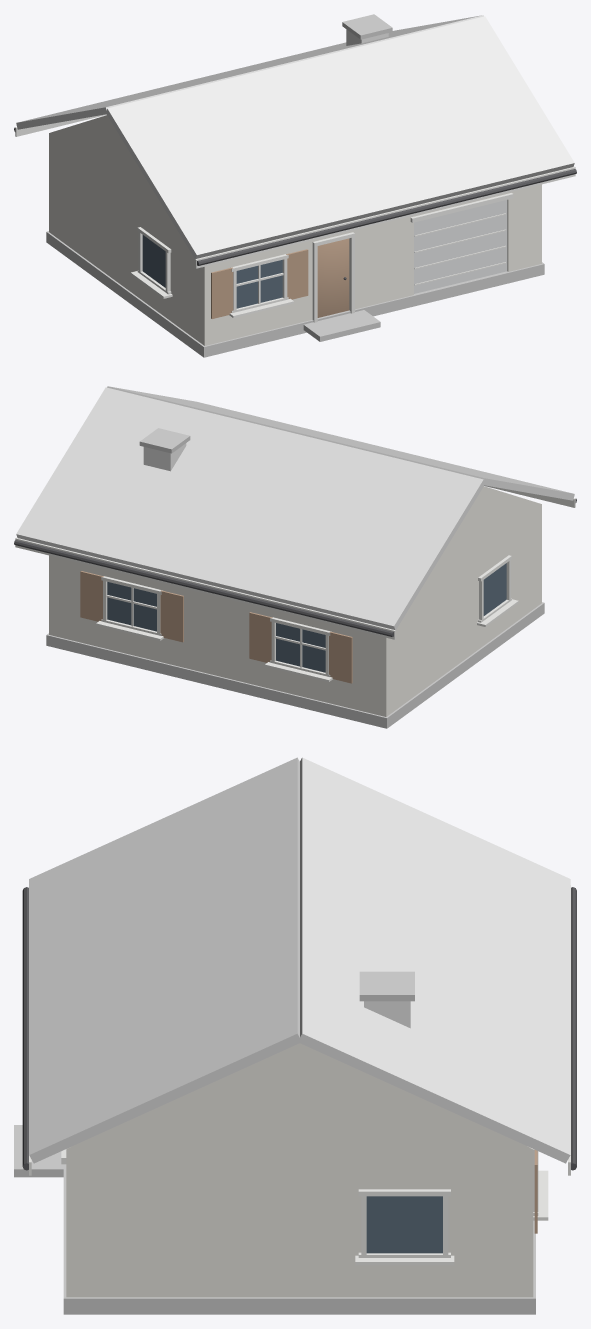
File: house_a.glb
3 views of the same model, one above another, from view 1: azimuth 30°, elevation 25°; view 2: azimuth 150°, elevation 25°; view 3: azimuth 270°, elevation 25° (orthographic). The views are drawn at different scales.
Visible parts, largest first — view 1: house_a_pbr_roof, house_a_pbr_plaster, house_a_pbr_concrete, house_a_trim, house_a_garage, house_a_pbr_wood, house_a_window_glass, house_a_metal_dark; view 2: house_a_pbr_roof, house_a_pbr_plaster, house_a_pbr_concrete, house_a_trim, house_a_window_glass, house_a_pbr_wood, house_a_metal_dark, house_a_pbr_brick; view 3: house_a_pbr_roof, house_a_pbr_plaster, house_a_pbr_concrete, house_a_window_glass, house_a_trim, house_a_metal_dark, house_a_pbr_brick.
Part boxes in pixels (left/top/right/bottom): house_a_pbr_roof: left=16, top=15, right=574, bottom=259; house_a_pbr_plaster: left=49, top=115, right=541, bottom=345; house_a_pbr_concrete: left=46, top=14, right=544, bottom=357; house_a_trim: left=15, top=114, right=575, bottom=322; house_a_garage: left=414, top=200, right=507, bottom=293; house_a_pbr_wood: left=211, top=238, right=349, bottom=318; house_a_window_glass: left=142, top=235, right=282, bottom=308; house_a_metal_dark: left=14, top=127, right=576, bottom=279; house_a_pbr_roof: left=16, top=386, right=574, bottom=630; house_a_pbr_plaster: left=49, top=486, right=541, bottom=716; house_a_pbr_concrete: left=46, top=428, right=544, bottom=728; house_a_trim: left=15, top=485, right=575, bottom=682; house_a_window_glass: left=107, top=563, right=506, bottom=672; house_a_pbr_wood: left=80, top=571, right=352, bottom=683; house_a_metal_dark: left=14, top=498, right=576, bottom=636; house_a_pbr_brick: left=143, top=443, right=186, bottom=471; house_a_pbr_roof: left=29, top=757, right=570, bottom=1163; house_a_pbr_plaster: left=66, top=1043, right=533, bottom=1297; house_a_pbr_concrete: left=14, top=971, right=535, bottom=1314; house_a_window_glass: left=366, top=1196, right=442, bottom=1253; house_a_trim: left=29, top=885, right=570, bottom=1265; house_a_metal_dark: left=22, top=887, right=576, bottom=1170; house_a_pbr_brick: left=364, top=1001, right=410, bottom=1028.
Bounding box in the file's own units: 11.25 × 5.57 × 9.65.
